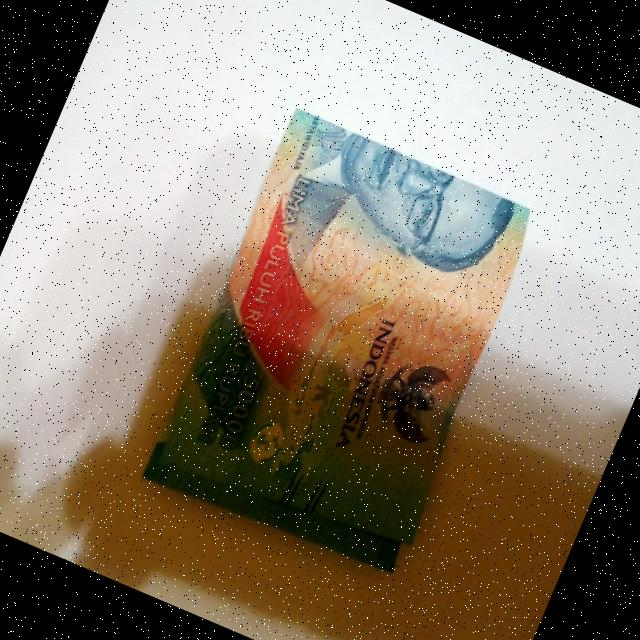50K: (134, 102, 561, 600)
